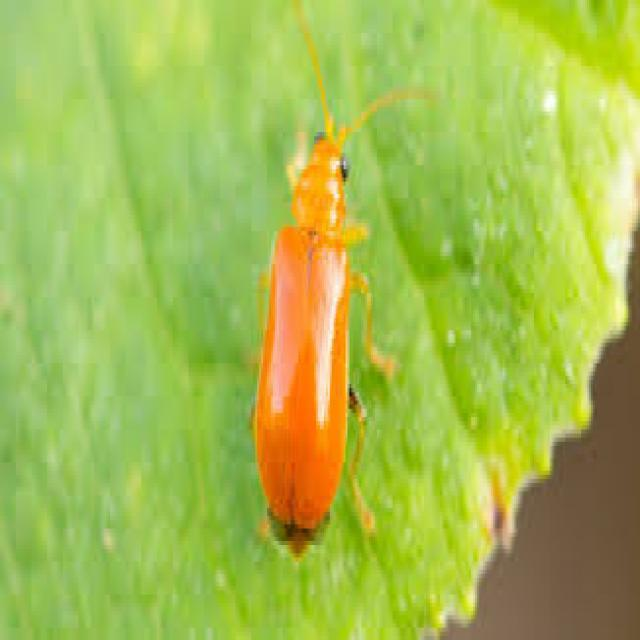Pumpkin Beetle: (250, 7, 451, 574)
